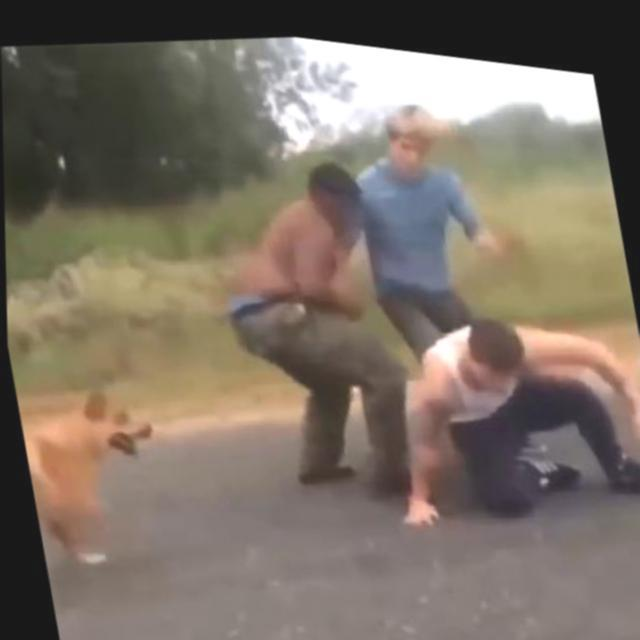fight: (195, 98, 640, 564)
